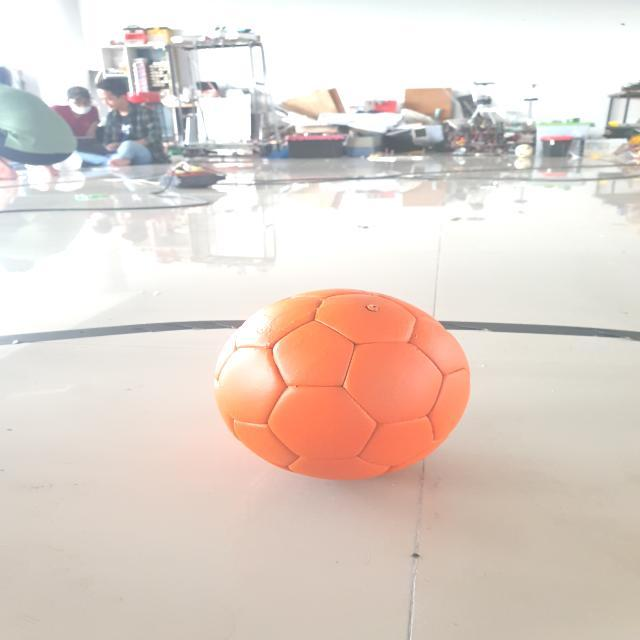bola: (215, 282, 474, 482)
